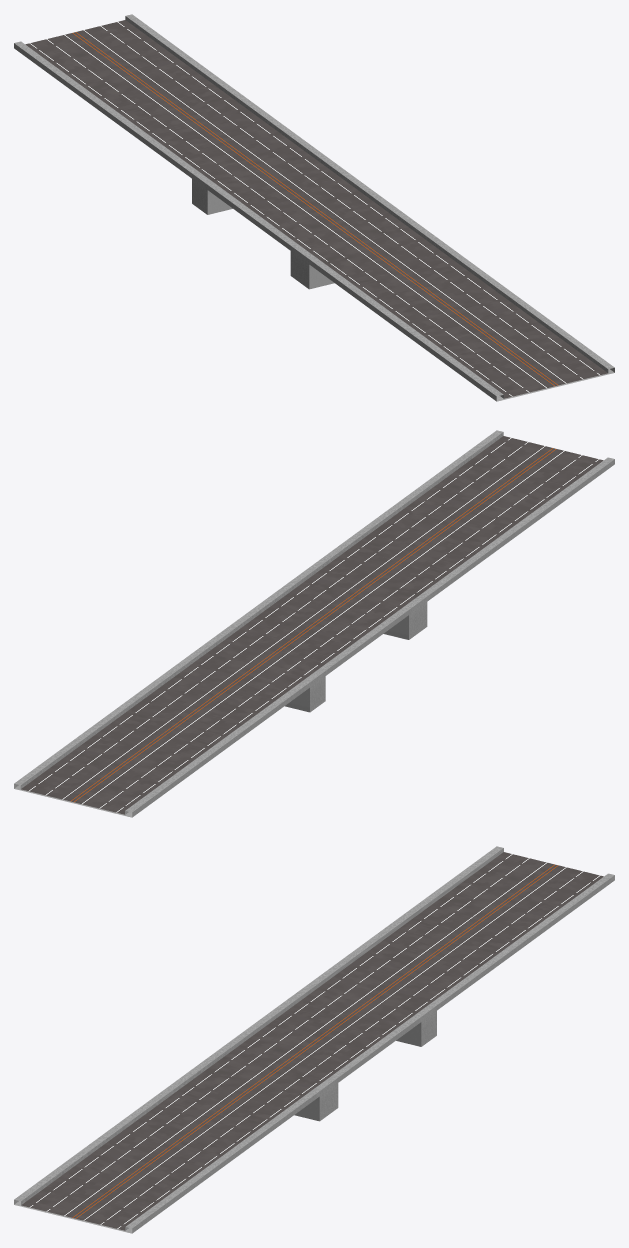
The model's file is pontemap.fbx.
The picture shows the model from 3 angles, top to bottom: view 1: azimuth 30°, elevation 25°; view 2: azimuth 150°, elevation 25°; view 3: azimuth 330°, elevation 25°; orthographic projection.
Parts seen in each view (by area): view 1: ponte1; view 2: ponte1; view 3: ponte1.
Part boxes in pixels (x1,y1,x2,y2): ponte1: (14,14,614,401); ponte1: (14,430,614,817); ponte1: (14,846,614,1233).
Bounding box in the file's own units: 2.69 × 0.6579 × 19.01.
